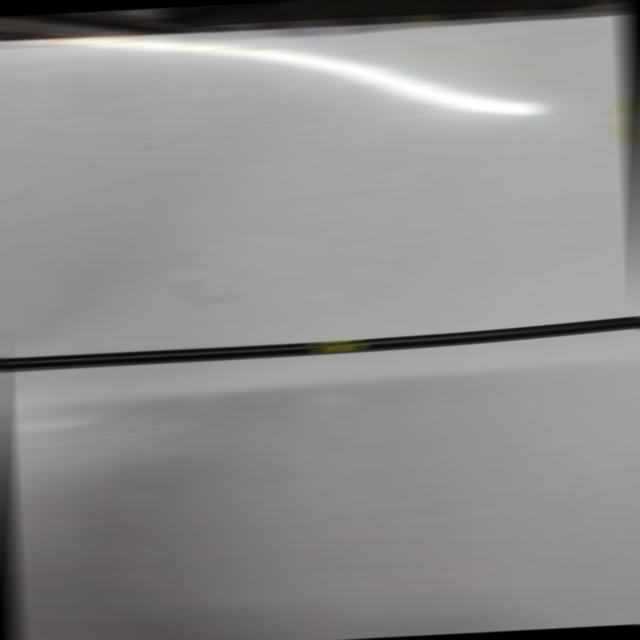yellow: (312, 339, 363, 353)
